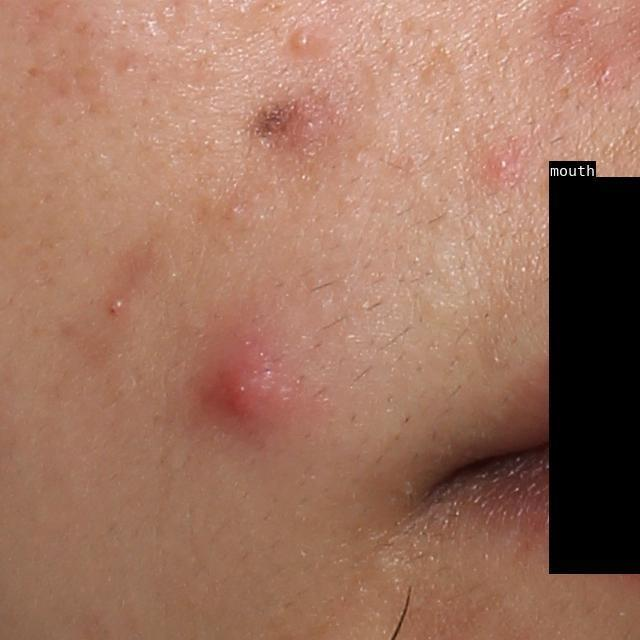atrophic_scar: (115, 52, 149, 78)
comedo: (229, 201, 244, 215)
nevus: (252, 98, 308, 150)
papule: (193, 344, 291, 433), (596, 61, 614, 84)
